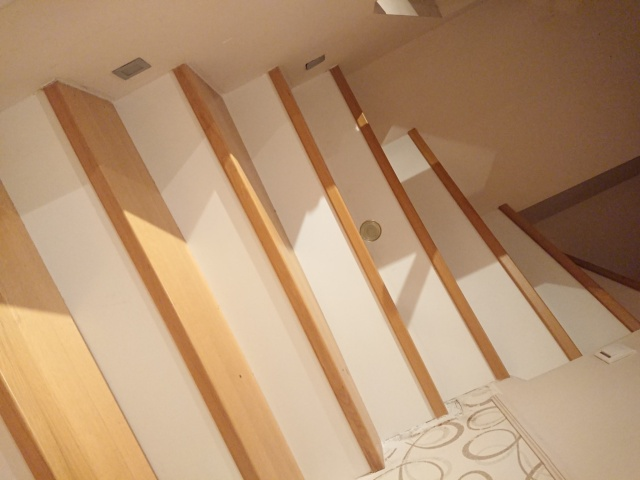Podravka Luncheon Meat 150g: (358, 216, 384, 245)
